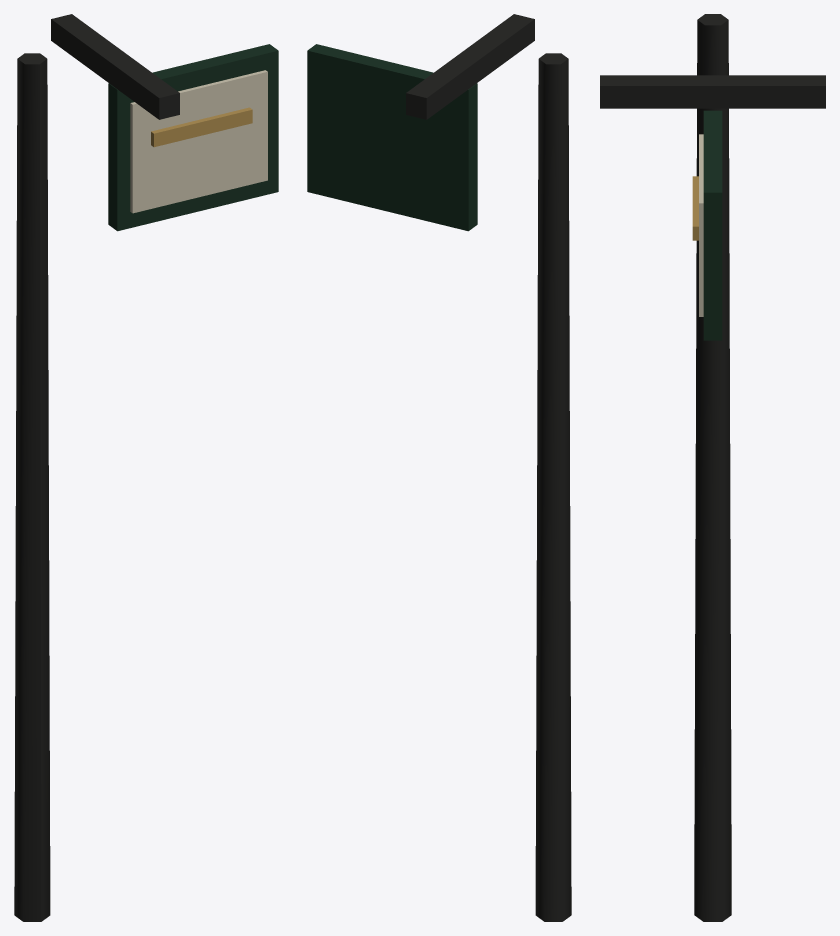
The model's file is furniture-pub.glb.
3 views of the same model, side by side, from view 1: azimuth 30°, elevation 25°; view 2: azimuth 150°, elevation 25°; view 3: azimuth 270°, elevation 25° (orthographic). The views are drawn at different scales.
Bounding box in the file's own units: 0.982 × 3.15 × 0.72.
